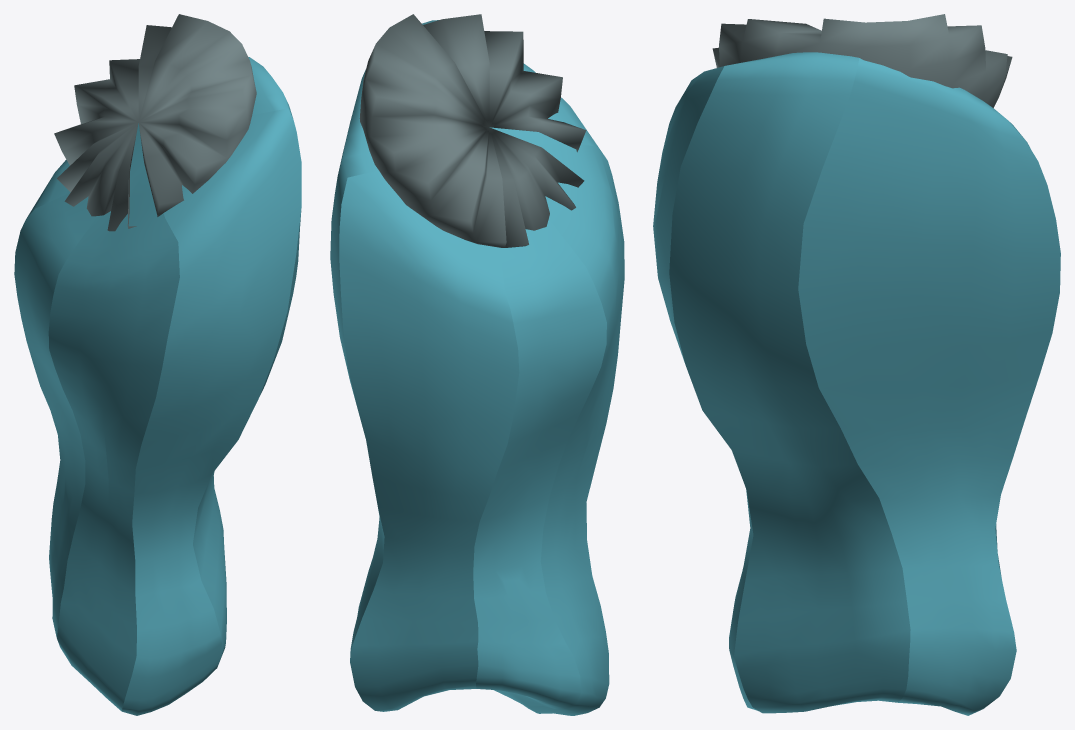
The model's file is thigh.l.gltf.
3 views of the same model, side by side, from view 1: azimuth 30°, elevation 25°; view 2: azimuth 150°, elevation 25°; view 3: azimuth 270°, elevation 25° (orthographic). The views are drawn at different scales.
Visible parts, largest first — view 1: thigh.l; view 2: thigh.l; view 3: thigh.l.
Part boxes in pixels (bbox=[...]): thigh.l: bbox=[14, 14, 301, 715]; thigh.l: bbox=[330, 14, 624, 715]; thigh.l: bbox=[653, 14, 1060, 715].
Size of the model in its own units: 0.3679 by 0.9428 by 0.4586.
